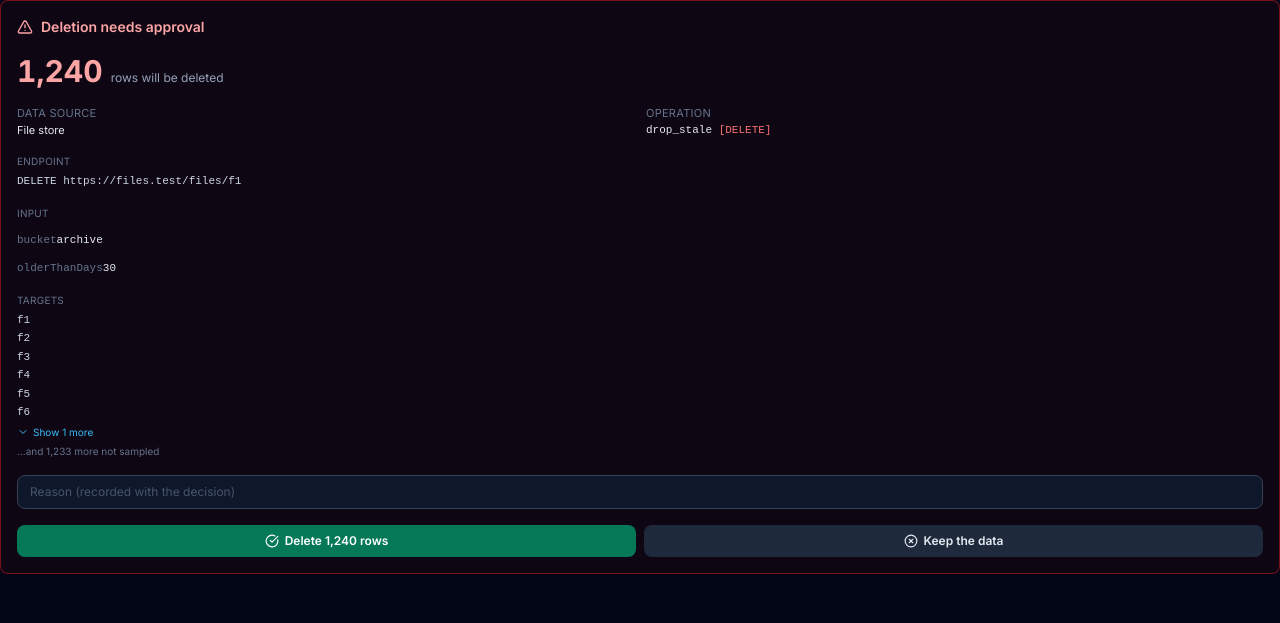
Test: DatasourceApprovalPanel › puts the buttons back when the decision fails to reach the backend
Click the button "Delete 1,240 rows".
click(326, 540)  # box [17, 524, 636, 556]
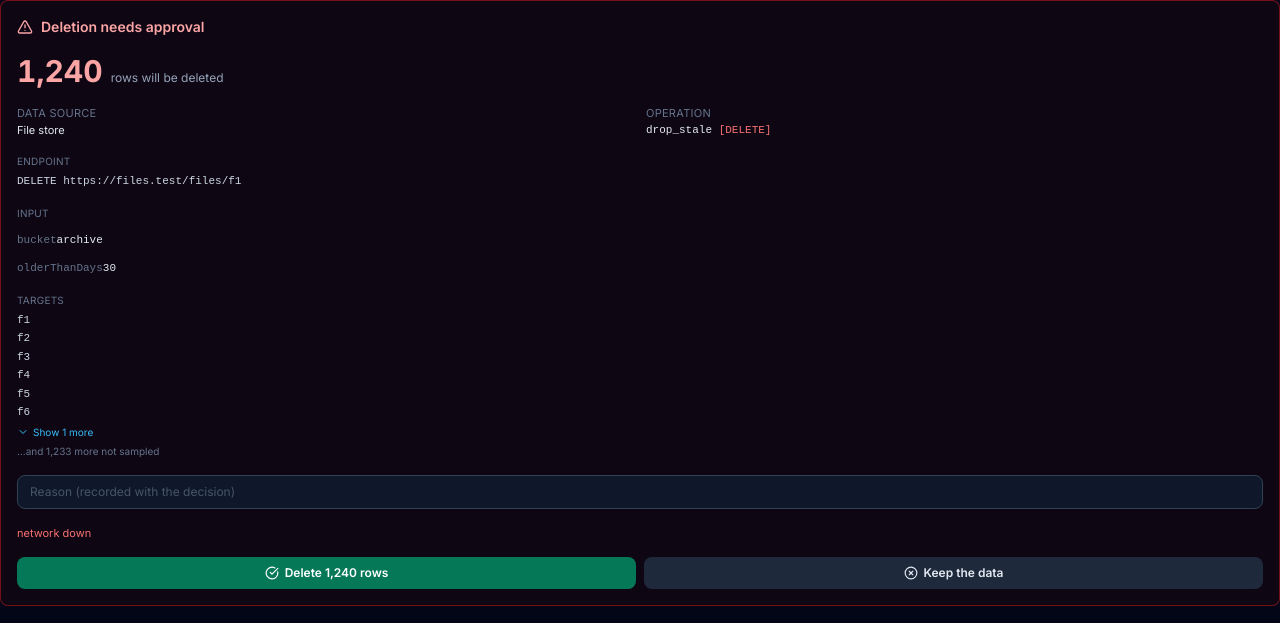
expect the button "Delete 1,240 rows" is shown: met, box [17, 557, 636, 589]
expect the text "network down" is shown: met, box [17, 526, 91, 540]
